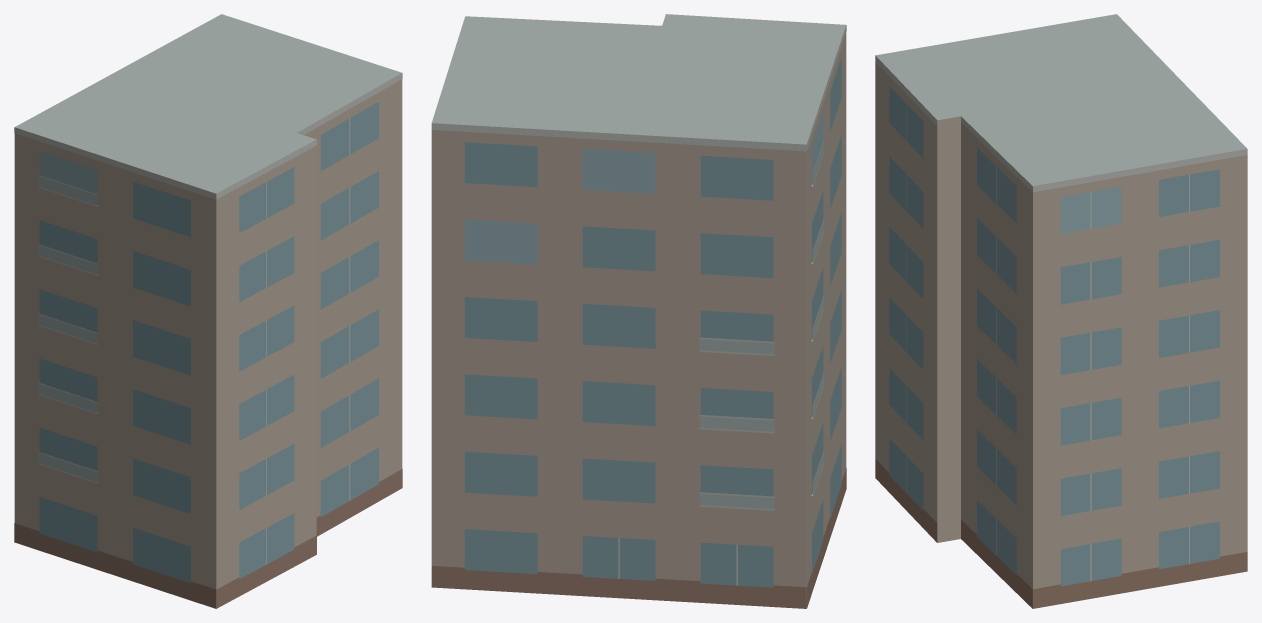
The model's file is survey-upis-33004520.glb.
The picture shows the model from 3 angles, left to right: view 1: azimuth 30°, elevation 25°; view 2: azimuth 150°, elevation 25°; view 3: azimuth 270°, elevation 25°; orthographic projection. The views are drawn at different scales.
Visible parts, largest first — view 1: survey-upis-33004520.tmp; view 2: survey-upis-33004520.tmp; view 3: survey-upis-33004520.tmp.
Part boxes in pixels (x1,y1,x2,y2): survey-upis-33004520.tmp: (14, 14, 402, 608); survey-upis-33004520.tmp: (431, 14, 846, 608); survey-upis-33004520.tmp: (875, 14, 1247, 608).
Bounding box in the file's own units: 14.69 × 16.8 × 13.42.
